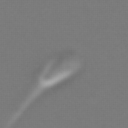normal: (7, 82, 41, 126)
